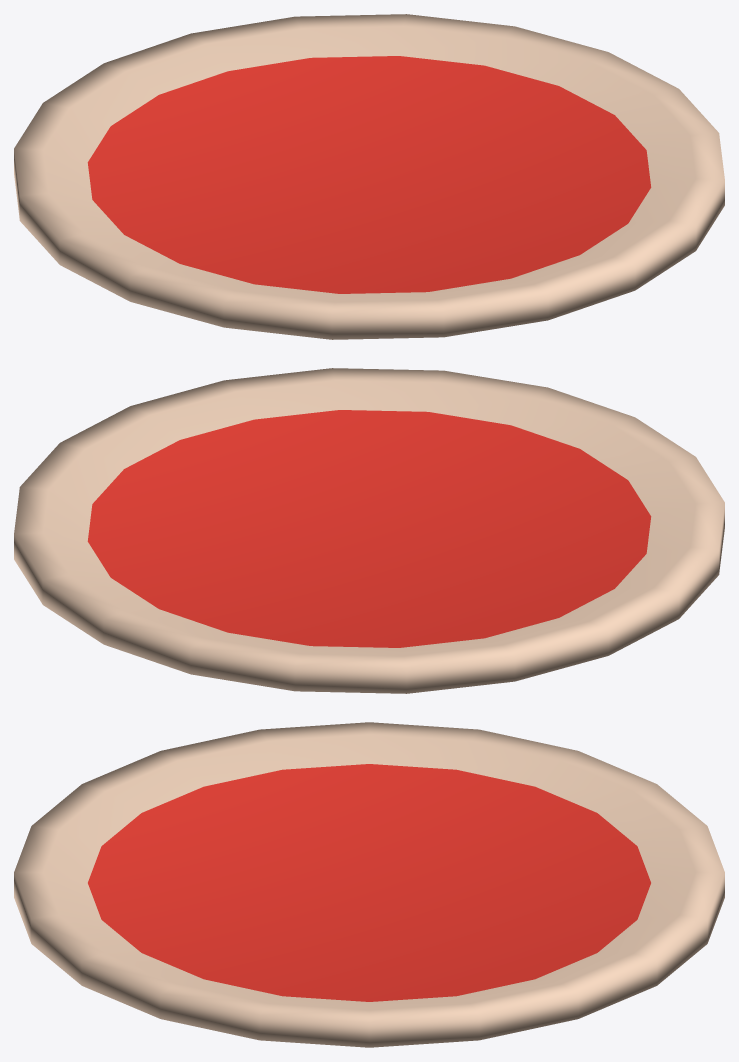
Rendered from RawPizza(With Tomato).glb.
3 renders of one model, top to bottom at view 1: azimuth 30°, elevation 25°; view 2: azimuth 150°, elevation 25°; view 3: azimuth 270°, elevation 25°, orthographic.
Visible parts, largest first — view 1: Cylinder.034; view 2: Cylinder.034; view 3: Cylinder.034.
Part boxes in pixels (x1=…): Cylinder.034: x1=14, y1=14, x2=724, y2=339; Cylinder.034: x1=14, y1=368, x2=724, y2=693; Cylinder.034: x1=14, y1=722, x2=724, y2=1047.
Size of the model in its own units: 0.8833 by 0.0344 by 0.8833.
